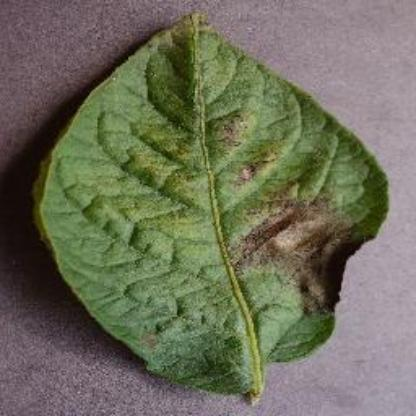Late-Blight: (32, 8, 416, 376)
